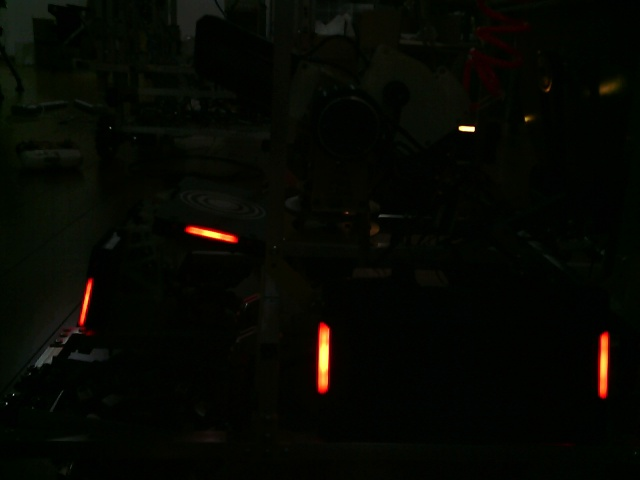lamp: (313, 320, 334, 397), (595, 331, 613, 400), (80, 277, 95, 329)
